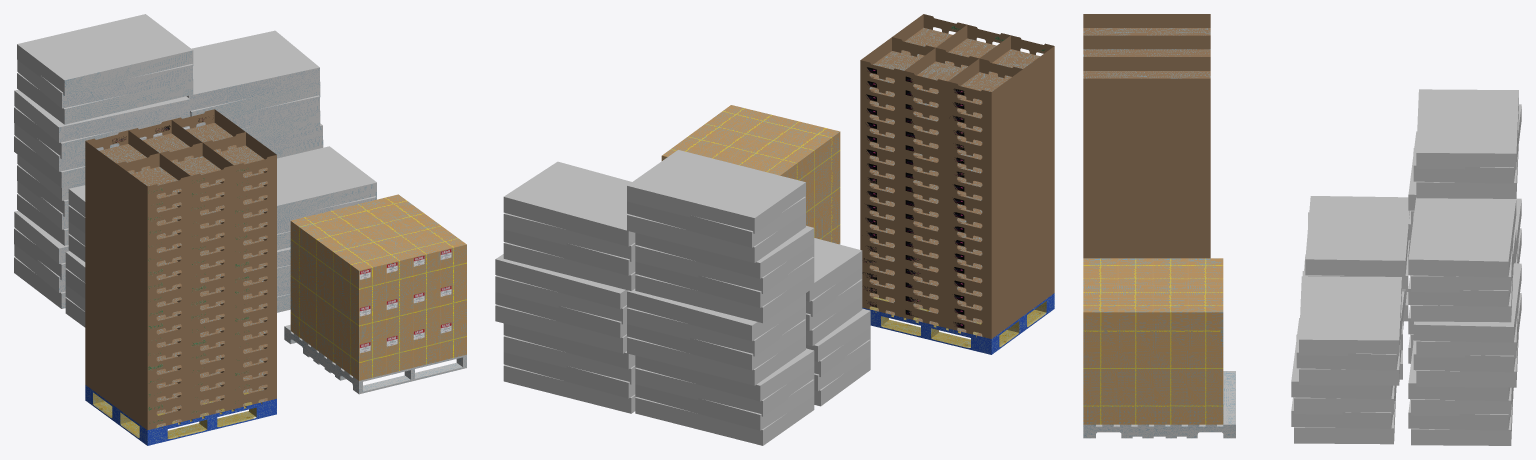
Rendered from box_stack.dae.
The picture shows the model from 3 angles, left to right: view 1: azimuth 30°, elevation 25°; view 2: azimuth 150°, elevation 25°; view 3: azimuth 270°, elevation 25°; orthographic projection. The views are drawn at different scales.
Visible parts, largest first — view 1: Driscoll_s_Pallet (×2), Pallet80x120 (×29), Uline_H-151_Box (×40), group_6, Group_1, Component_6; view 2: Pallet80x120 (×35), Driscoll_s_Pallet (×2), Uline_H-151_Box (×5), Component_6; view 3: Pallet80x120 (×23), Driscoll_s_Pallet (×2), Uline_H-151_Box (×28), Group_1, group_7.
Boxes of the visible parts, bbox=[...] form: Driscoll_s_Pallet (×2): bbox=[85, 109, 276, 430]; Pallet80x120 (×29): bbox=[14, 14, 376, 308]; Uline_H-151_Box (×40): bbox=[290, 194, 466, 380]; group_6: bbox=[353, 362, 466, 394]; Group_1: bbox=[284, 328, 362, 392]; Component_6: bbox=[167, 411, 255, 438]; Pallet80x120 (×35): bbox=[495, 150, 870, 445]; Driscoll_s_Pallet (×2): bbox=[860, 14, 1054, 338]; Uline_H-151_Box (×5): bbox=[805, 132, 840, 244]; Component_6: bbox=[881, 319, 970, 347]; Pallet80x120 (×23): bbox=[1291, 89, 1521, 445]; Driscoll_s_Pallet (×2): bbox=[1083, 14, 1210, 258]; Uline_H-151_Box (×28): bbox=[1083, 258, 1223, 424]; Group_1: bbox=[1083, 424, 1235, 436]; group_7: bbox=[1223, 371, 1235, 426].
Size of the model in its own units: 127 by 138 by 91.96.
